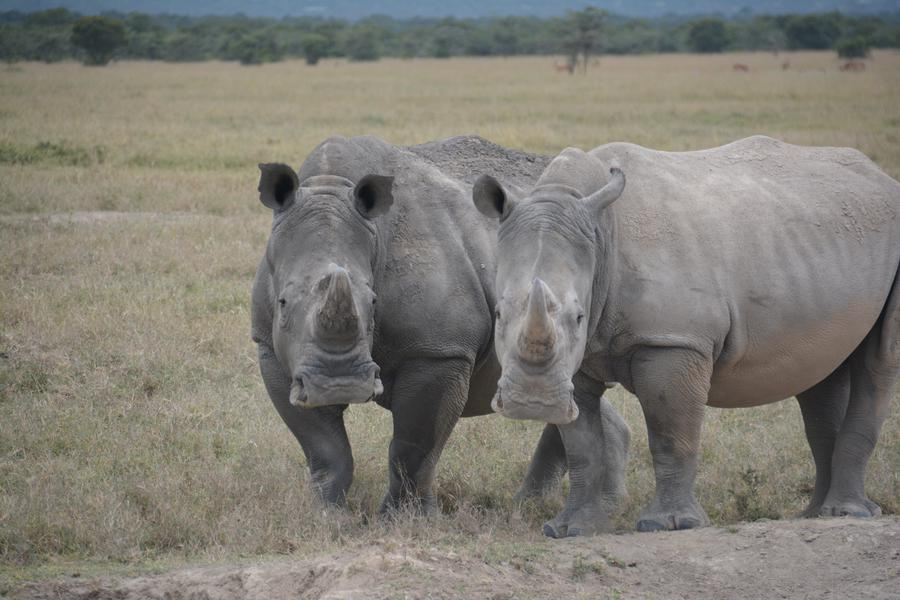rhino: (513, 134, 879, 481), (255, 125, 490, 479)
